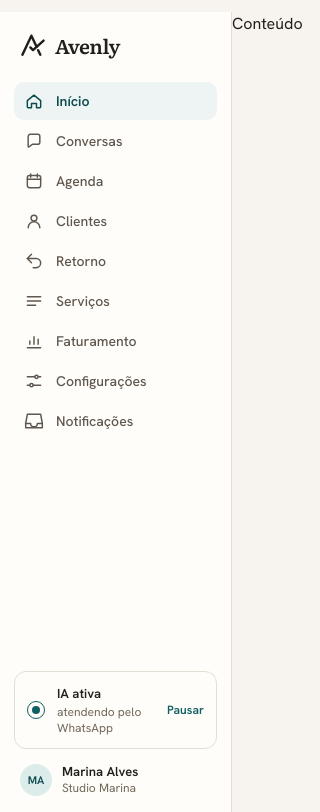
Scenario: Goal087 prova 3: a conta › o menu abre com Minha conta e Sair, fecha com Escape e devolve o foco ao botão
Expected: the text "IA ativa" is shown, [57,685,101,702]
Click the button "MA Marina Alves Studio Marina". click: [116, 780]
box: [14,763,217,796]
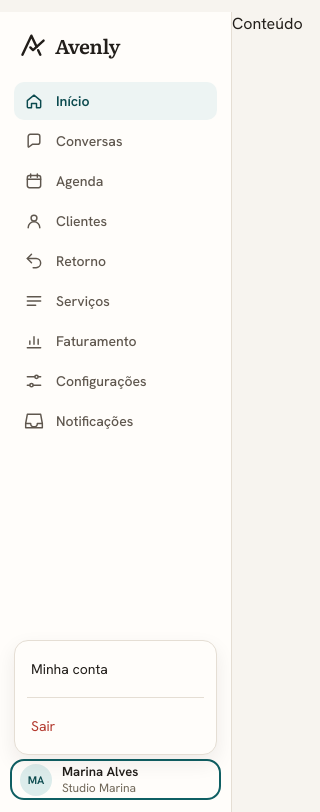
Expected: the element with id "account-menu" is shown, [14,640,217,755]
Expected: the button "Sair" is shown, [21,704,210,748]
Press Escape
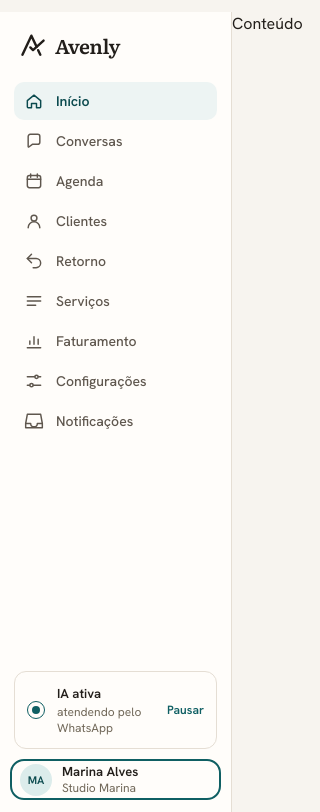
Expected: the element with id "account-menu" is gone
